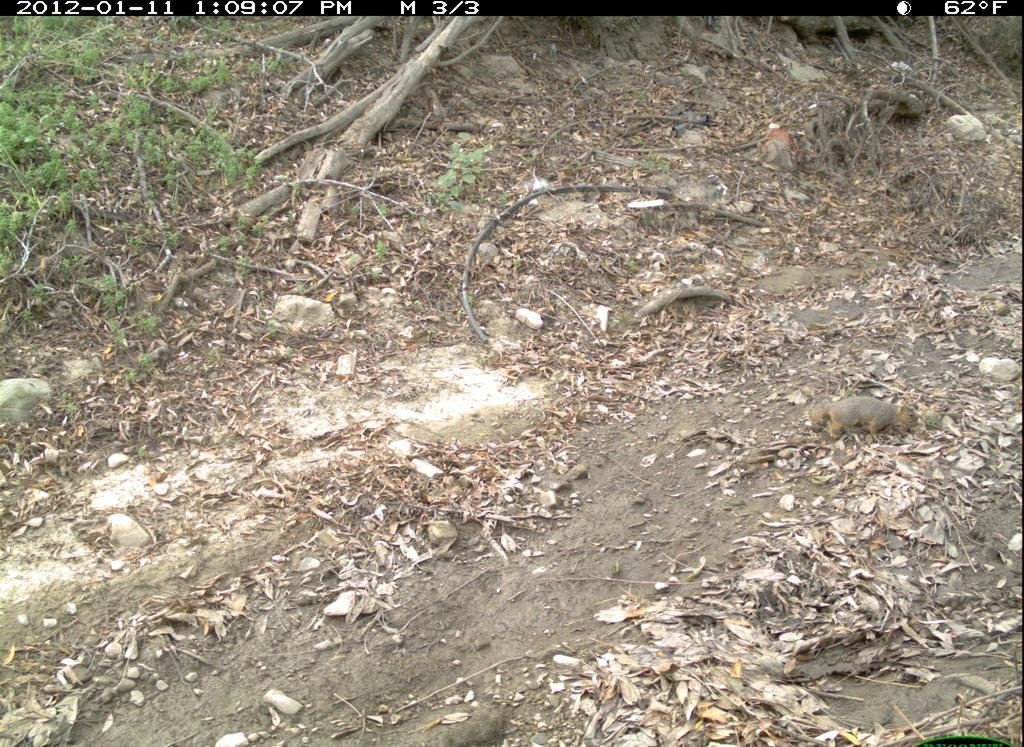squirrel: (811, 393, 922, 444)
